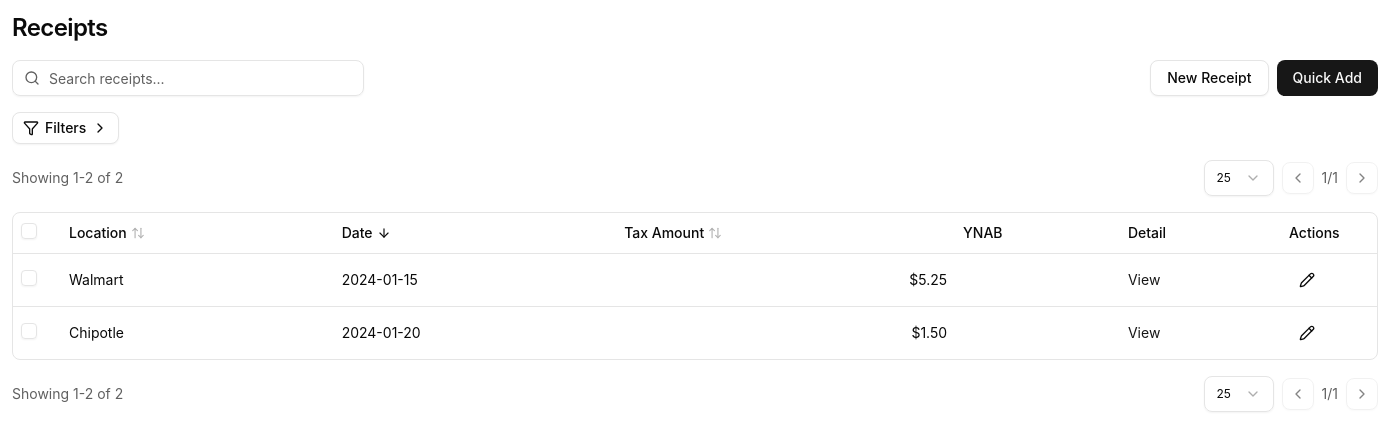
Test: Receipts › toggles select all checkbox
Click the checkbox named "Select all rows": (29, 231) [21, 223, 37, 239]
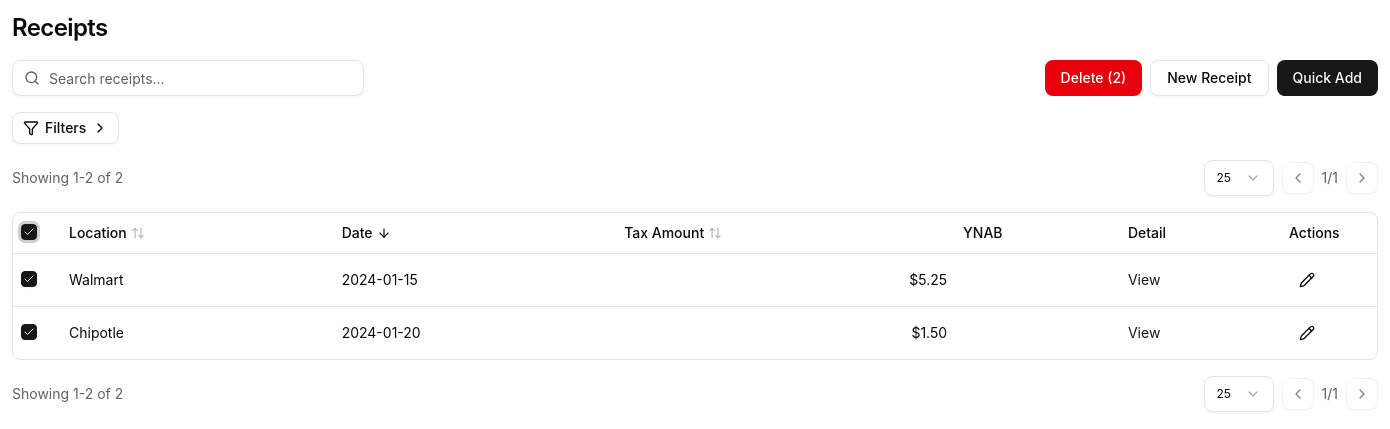
Now the button "Delete (2)" is shown, box [1045, 60, 1142, 96]
